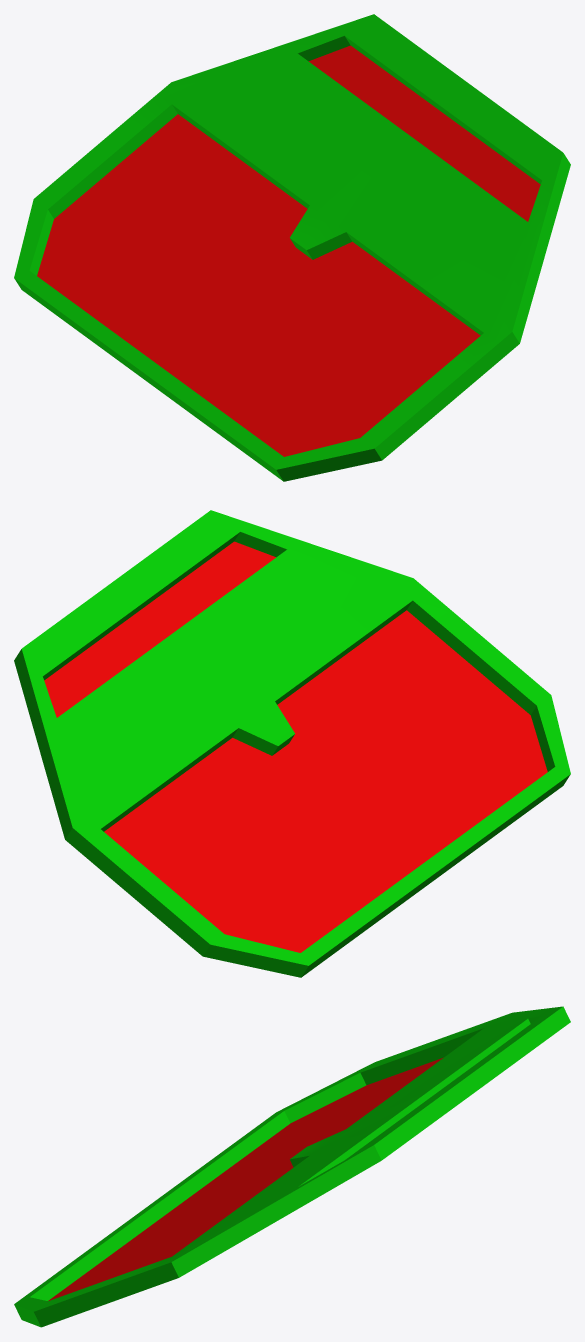
File: GJ_Envrio_Kit_Track_Barriers_HL_30-07-2019_v1.fbx
3 views of the same model, one above another, from view 1: azimuth 30°, elevation 25°; view 2: azimuth 150°, elevation 25°; view 3: azimuth 330°, elevation 25° (orthographic).
Visible parts, largest first — view 1: pCube7; view 2: pCube7; view 3: pCube7.
Boxes of the visible parts, x1=… form: pCube7: x1=14, y1=14, x2=570, y2=481; pCube7: x1=14, y1=510, x2=570, y2=977; pCube7: x1=14, y1=1006, x2=570, y2=1327.
Bounding box in the file's own units: 742 × 483 × 1324.
